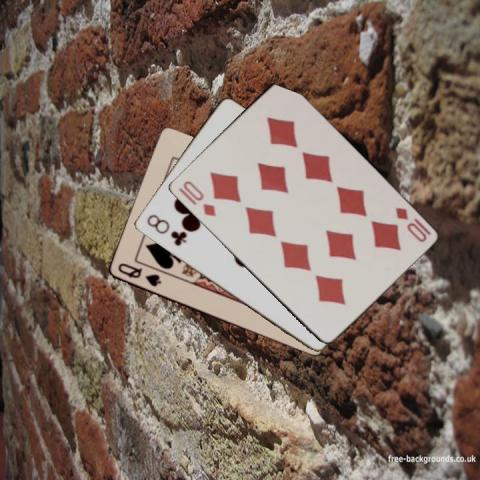10d: (179, 177, 218, 218), (392, 204, 428, 244)
8c: (144, 212, 188, 248)
Qs: (114, 260, 162, 288)
